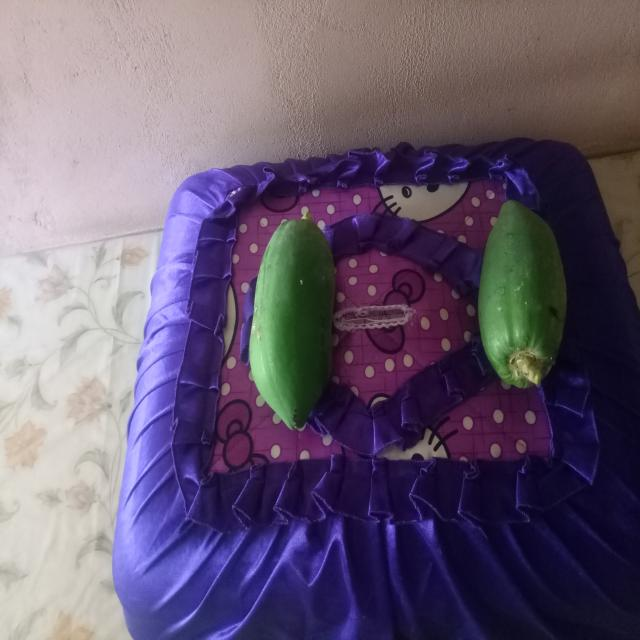Pepaya unrippen: (480, 183, 564, 402), (248, 207, 330, 424)
